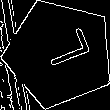L_W: (29, 30, 90, 78)
